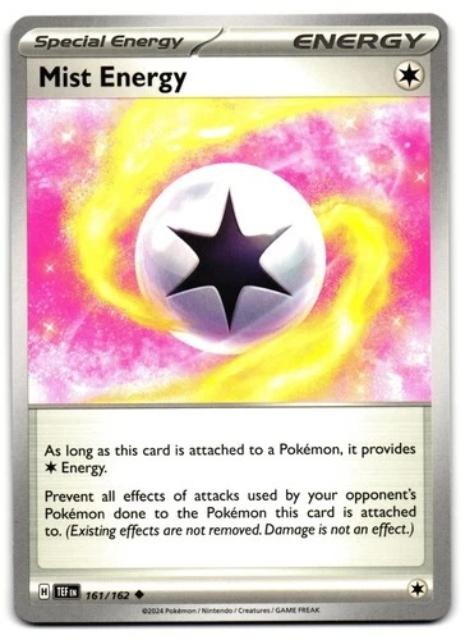Card: (5, 8, 458, 627)
Name: (30, 58, 196, 97)
